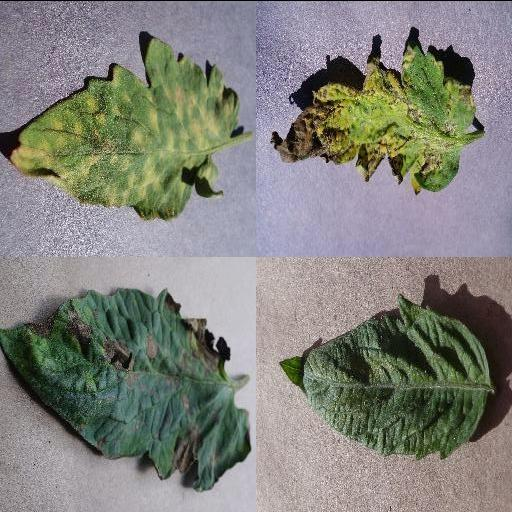Early Blight: (0, 287, 256, 491)
Leaf Mold: (7, 36, 241, 220)
Septoria: (269, 44, 473, 194)
Spider Mites: (275, 292, 491, 462)
